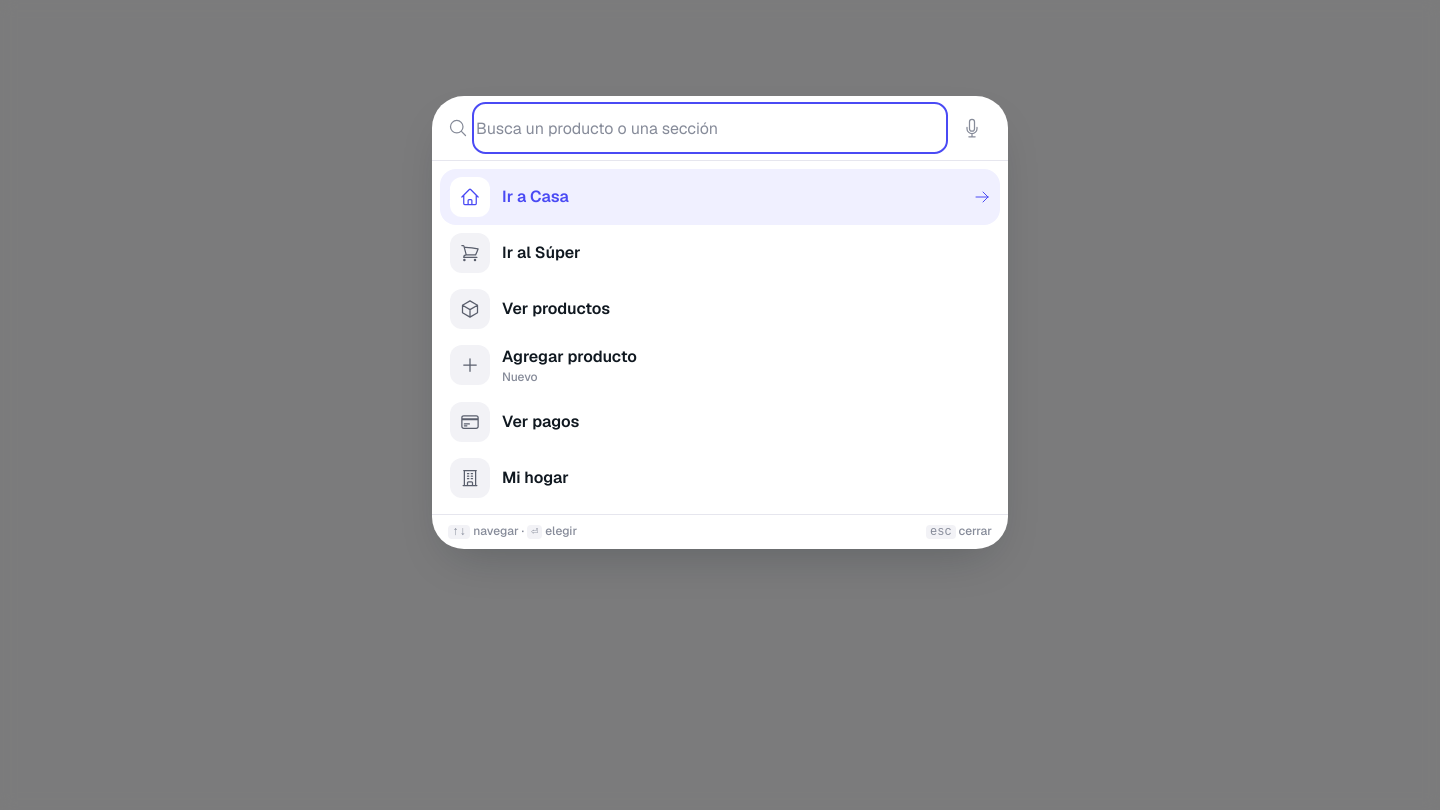
Test: CommandPalette — encuentra toda la despensa › encuentra el último de cien
Type "Producto 100" into the field with placeholder "Busca un producto o una sección" at (710, 128), box [476, 106, 944, 150]
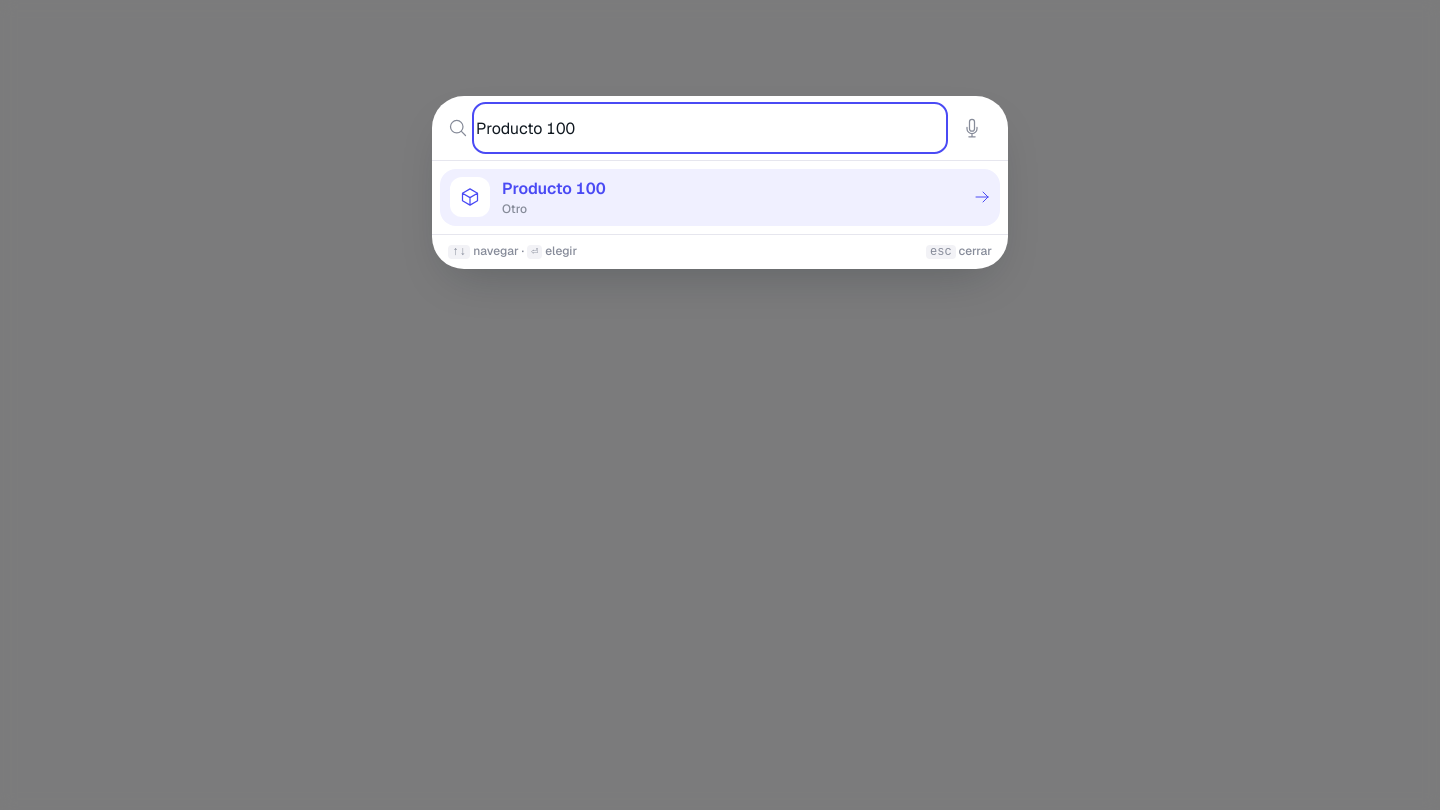
Result: the text "Producto 100" is shown at [502, 178, 606, 199]
